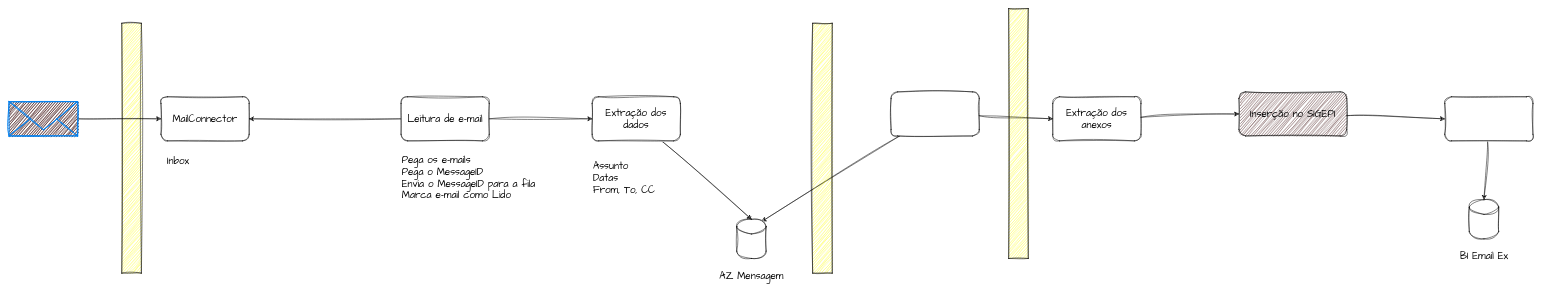
Image size: 1542x294. Some labels were removed from this diagram. The shapes that lost their labels are listed below. From the top down, each one's centre as x and y in pixels, then its label:
At (x=935, y=113): "Novo View Emails".
At (x=1488, y=118): "SIGEPI".
